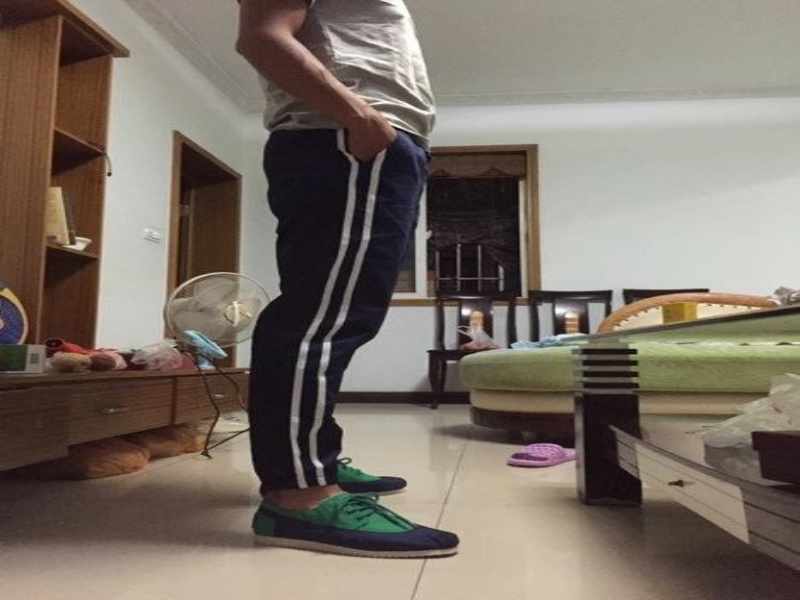short_sleeved_shirt: (232, 1, 441, 141)
trousers: (239, 111, 438, 490)
